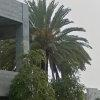Palm tree: (30, 1, 94, 80)
